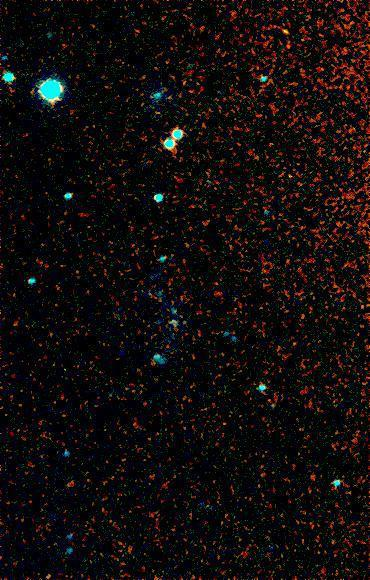star: (272, 16, 302, 46)
